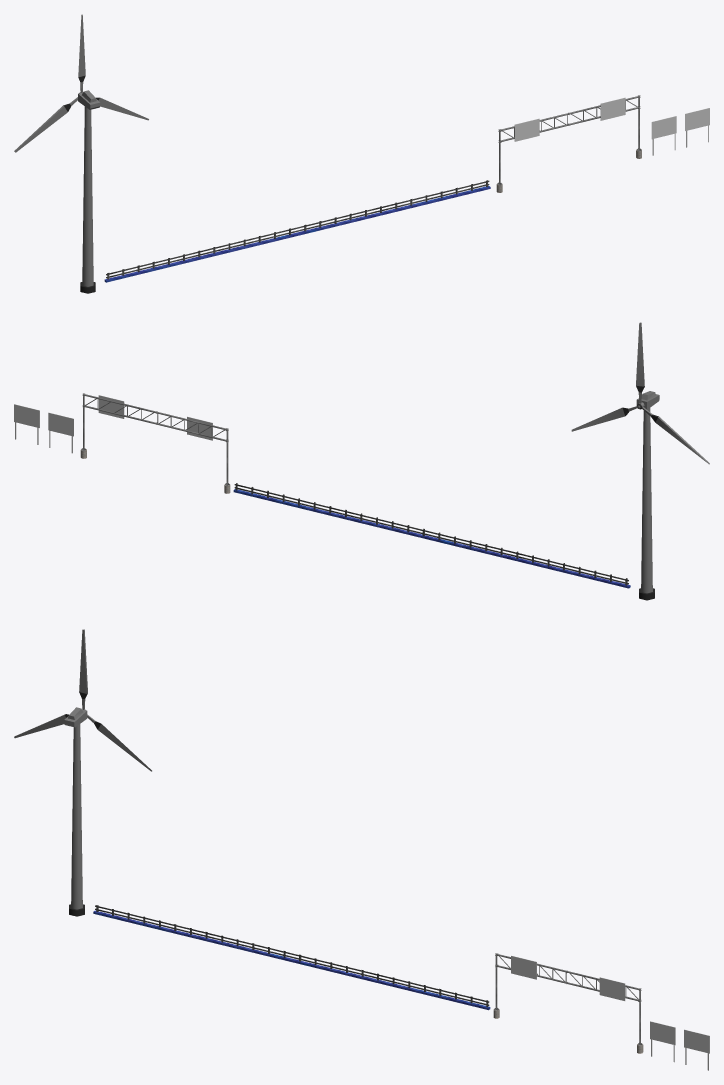
Rendered from High way props.fbx.
3 renders of one model, top to bottom at view 1: azimuth 30°, elevation 25°; view 2: azimuth 150°, elevation 25°; view 3: azimuth 330°, elevation 25°, orthographic. The views are drawn at different scales.
Visible parts, largest first — view 1: Grill, Wind_Pillar, High_way, Wind_Fan, Broad, Broad1; view 2: Grill, Wind_Pillar, High_way, Wind_Fan, Broad, Broad1; view 3: Grill, Wind_Pillar, High_way, Wind_Fan.
Part boxes in pixels (x1=…): Grill: x1=104, y1=180, x2=490, y2=282; Wind_Pillar: x1=78, y1=90, x2=100, y2=293; High_way: x1=496, y1=95, x2=641, y2=192; Wind_Fan: x1=14, y1=14, x2=148, y2=152; Broad: x1=651, y1=116, x2=676, y2=155; Broad1: x1=685, y1=108, x2=709, y2=147; Grill: x1=233, y1=483, x2=630, y2=588; Wind_Pillar: x1=636, y1=391, x2=659, y2=600; High_way: x1=80, y1=393, x2=230, y2=493; Wind_Fan: x1=571, y1=322, x2=709, y2=464; Broad: x1=48, y1=412, x2=73, y2=453; Broad1: x1=14, y1=404, x2=39, y2=444; Grill: x1=93, y1=905, x2=490, y2=1010; Wind_Pillar: x1=64, y1=707, x2=87, y2=916; High_way: x1=493, y1=953, x2=643, y2=1053; Wind_Fan: x1=14, y1=629, x2=151, y2=771.
Bounding box in the file's own units: 9050 × 3417 × 353.
